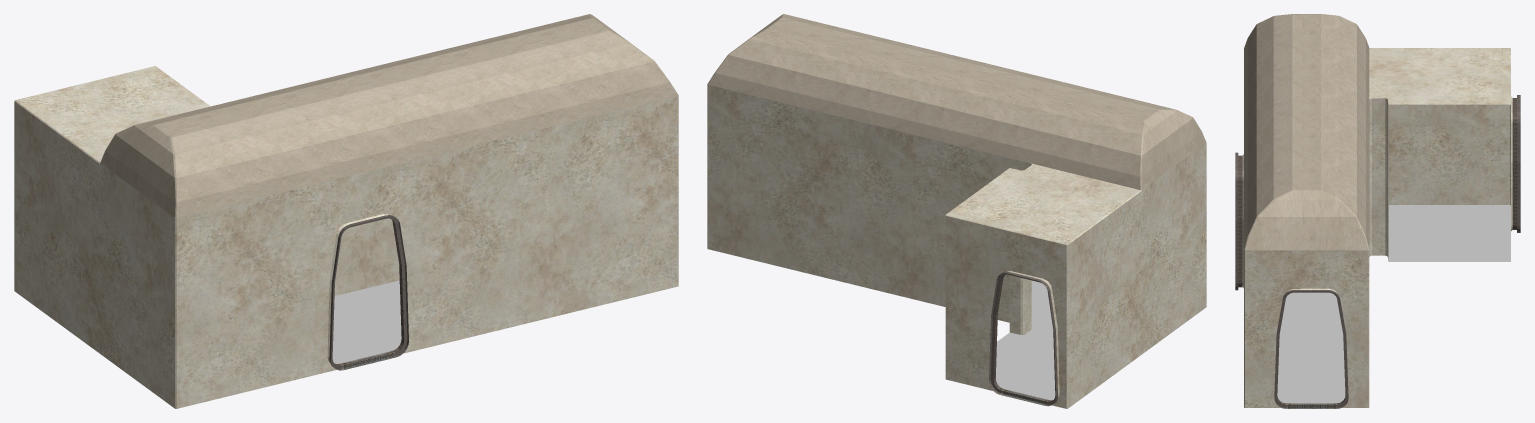
Rendered from thm_tato_house_m_s01_fp1_r9_hall2_mesh_r9.fbx.
The picture shows the model from 3 angles, left to right: view 1: azimuth 30°, elevation 25°; view 2: azimuth 150°, elevation 25°; view 3: azimuth 270°, elevation 25°; orthographic projection. The views are drawn at different scales.
Visible parts, largest first — view 1: mesh_node; view 2: mesh_node; view 3: mesh_node.
Part boxes in pixels (x1,y1,x2,y2): mesh_node: (14,14,678,408); mesh_node: (707,14,1206,408); mesh_node: (1235,14,1520,408).
Bounding box in the file's own units: 11.95 × 5.43 × 6.98.
